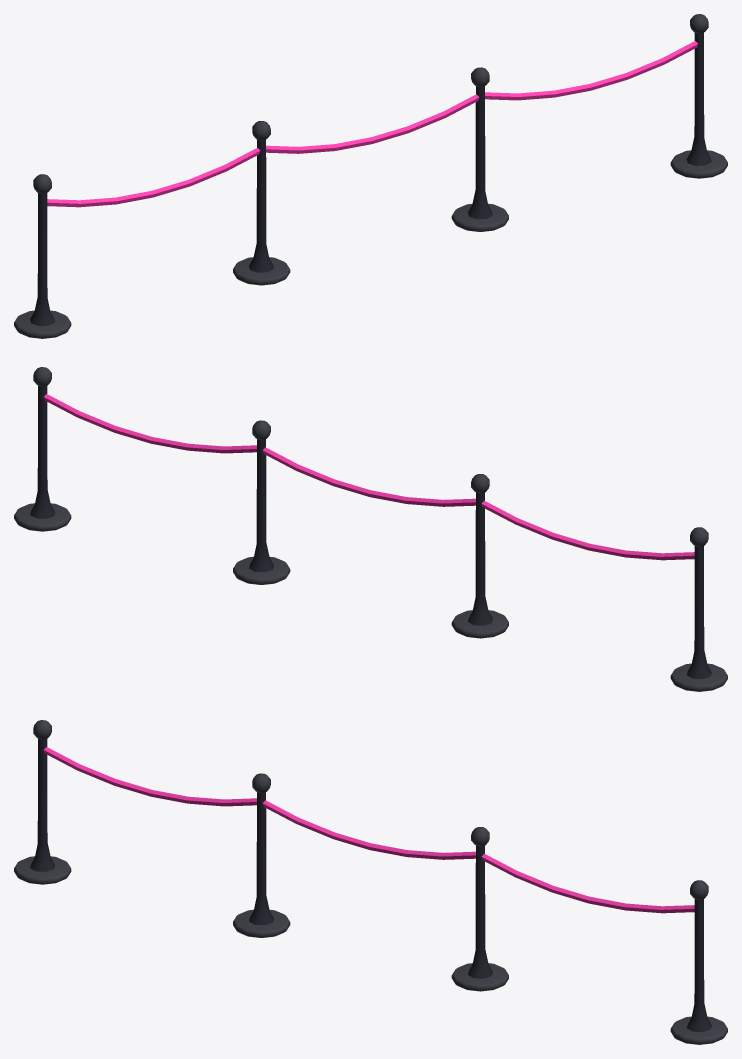
File: queue_rope_line.glb
The picture shows the model from 3 angles, top to bottom: view 1: azimuth 30°, elevation 25°; view 2: azimuth 150°, elevation 25°; view 3: azimuth 330°, elevation 25°; orthographic projection.
Visible parts, largest first — view 1: queue_rope_line; view 2: queue_rope_line; view 3: queue_rope_line.
Boxes of the visible parts, bbox=[...] form: queue_rope_line: bbox=[14, 14, 727, 338]; queue_rope_line: bbox=[14, 367, 727, 691]; queue_rope_line: bbox=[14, 720, 727, 1044].
Bounding box in the file's own units: 4.84 × 1 × 0.34.
